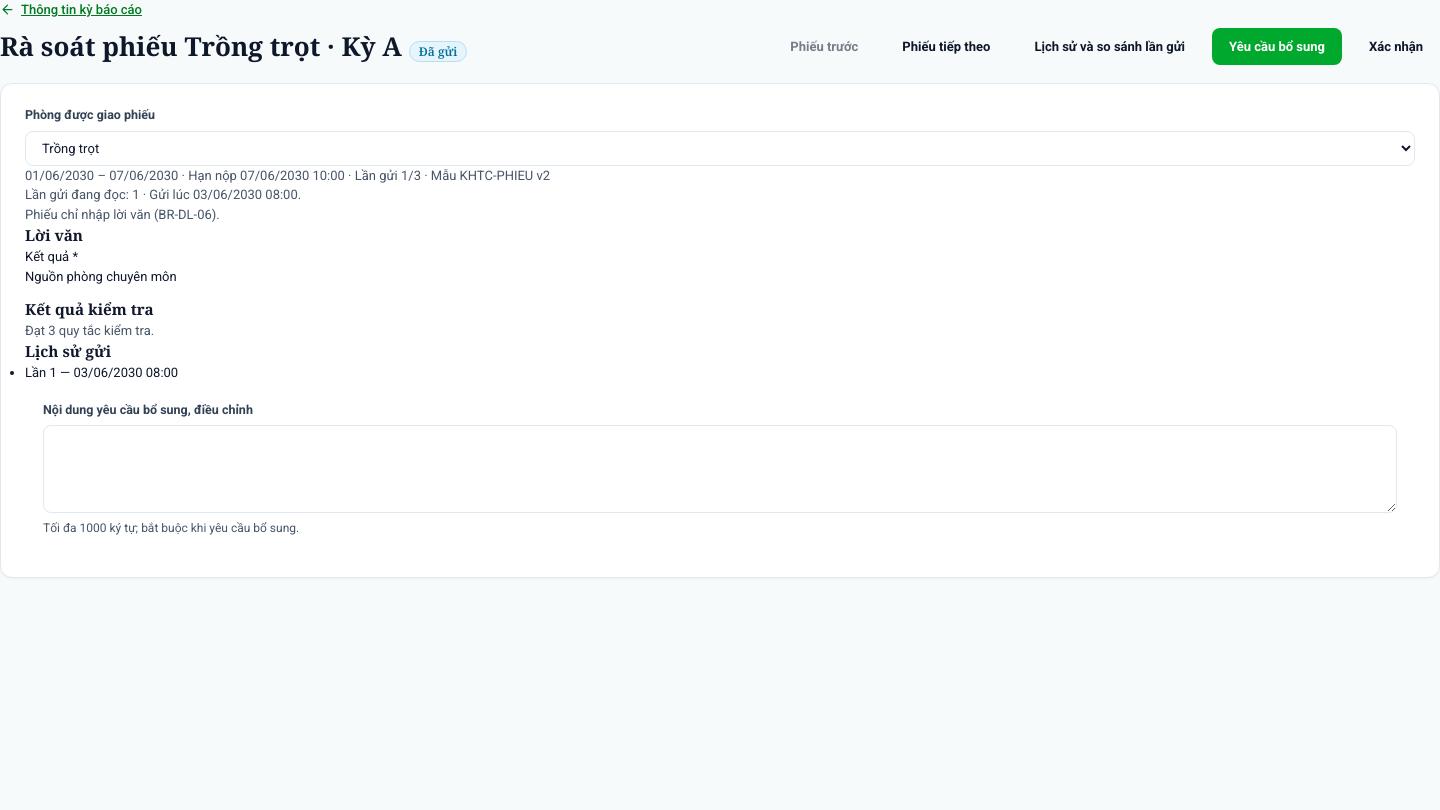
it: review241 — quyết định gắn với lần gửi đã đọc › đổi phòng có ghi chú phải xác nhận bỏ, không mang ghi chú sang phòng khác
In the text box: (720, 469) [43,425,1397,513], type "Ghi chú riêng TT"
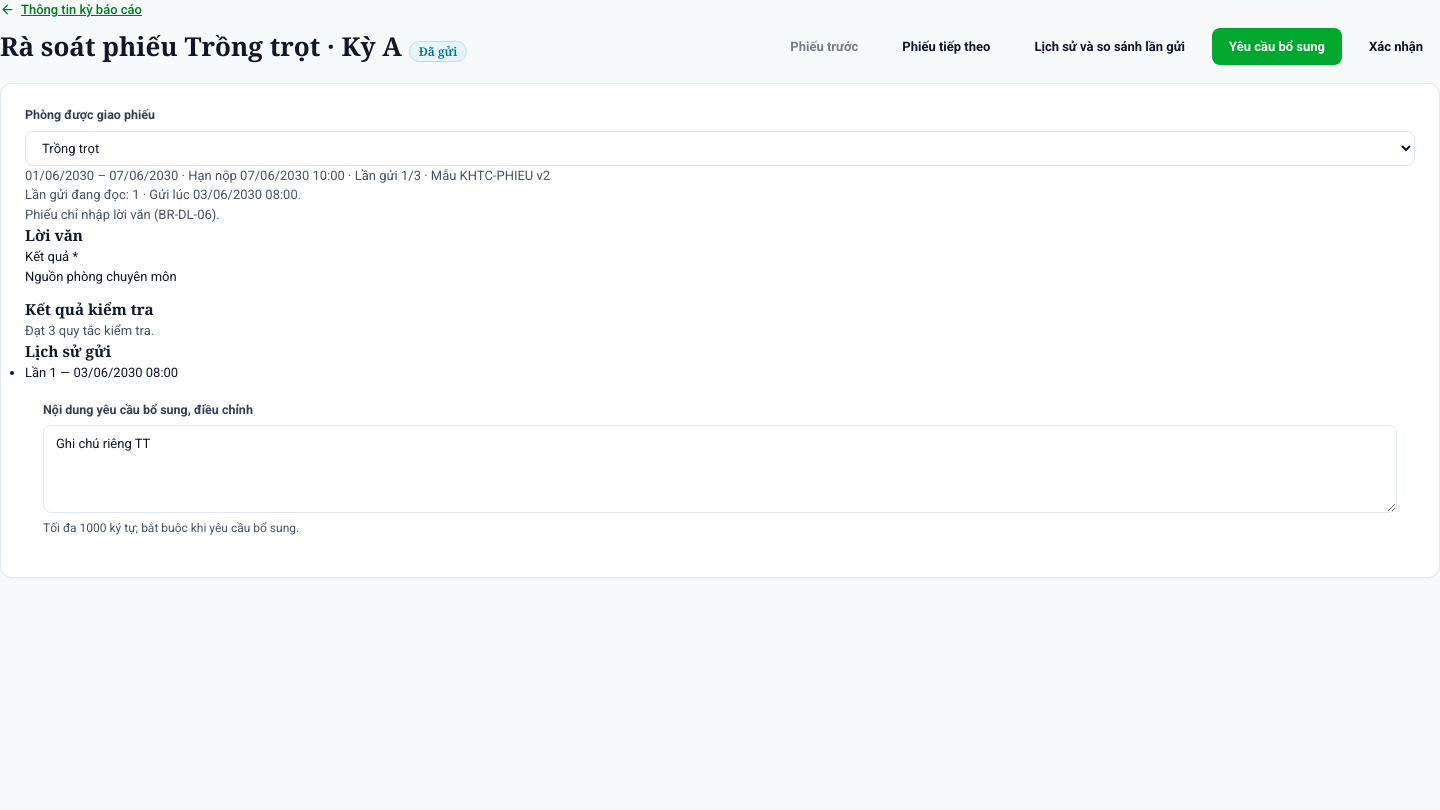
Click the button "Phiếu tiếp theo": (946, 46) [885,28,1007,65]
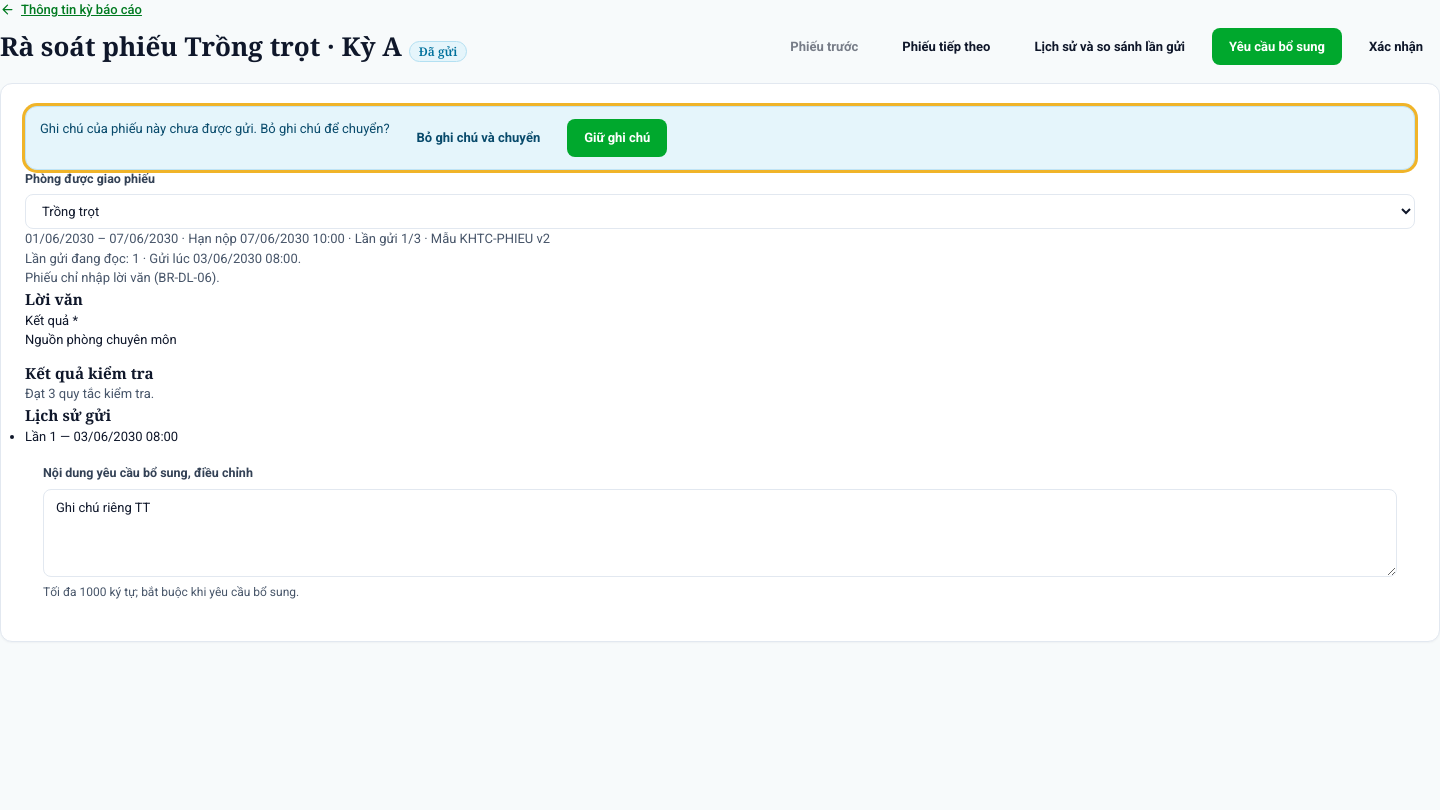
Click the button "Bỏ ghi chú và chuyển": (478, 138) [400,119,557,156]
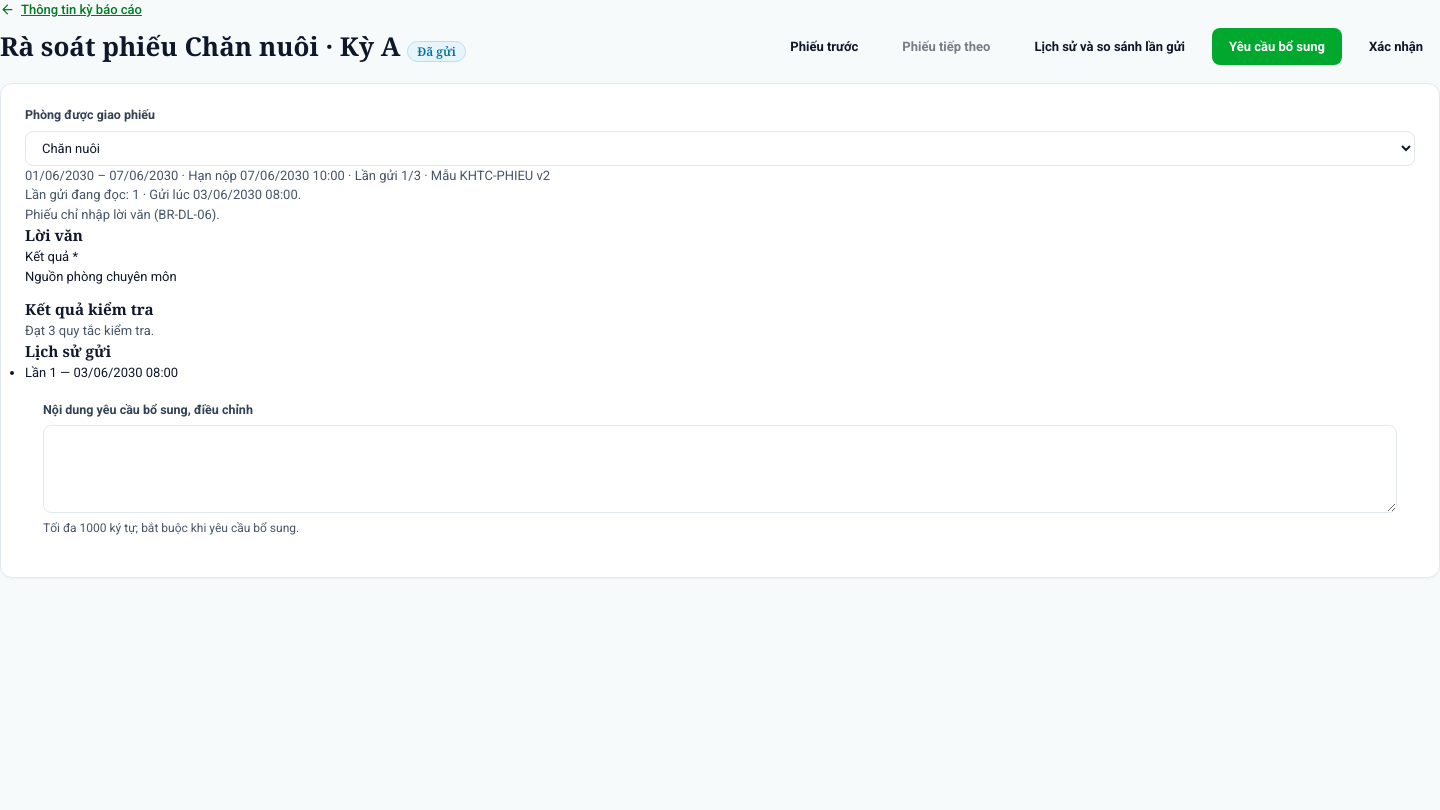
Now the text box is empty, box [43,425,1397,513]
